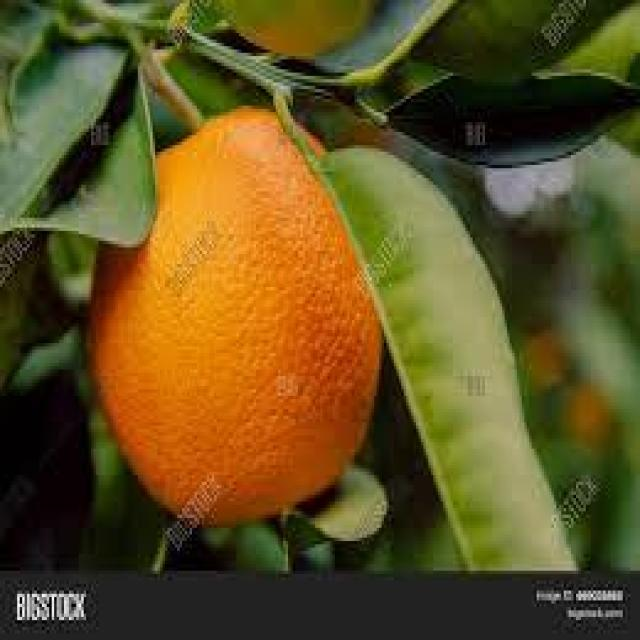fruit: (78, 93, 407, 527), (187, 0, 396, 69)
